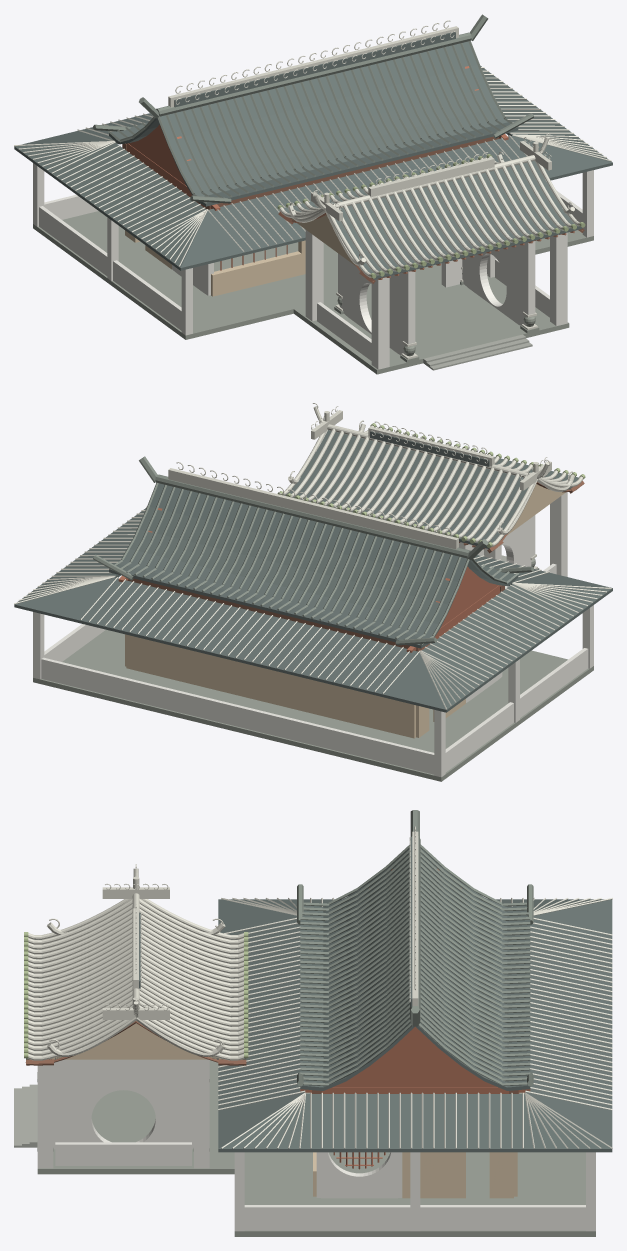
File: dongpo.glb
The picture shows the model from 3 angles, top to bottom: view 1: azimuth 30°, elevation 25°; view 2: azimuth 150°, elevation 25°; view 3: azimuth 270°, elevation 25°; orthographic projection. The views are drawn at different scales.
Visible parts, largest first — view 1: dongpo; view 2: dongpo; view 3: dongpo.
Part boxes in pixels (x1,y1,x2,y2): dongpo: (14,14,612,374); dongpo: (14,403,612,781); dongpo: (14,810,612,1236).
Size of the model in its own units: 18.04 by 7.21 by 18.24.
